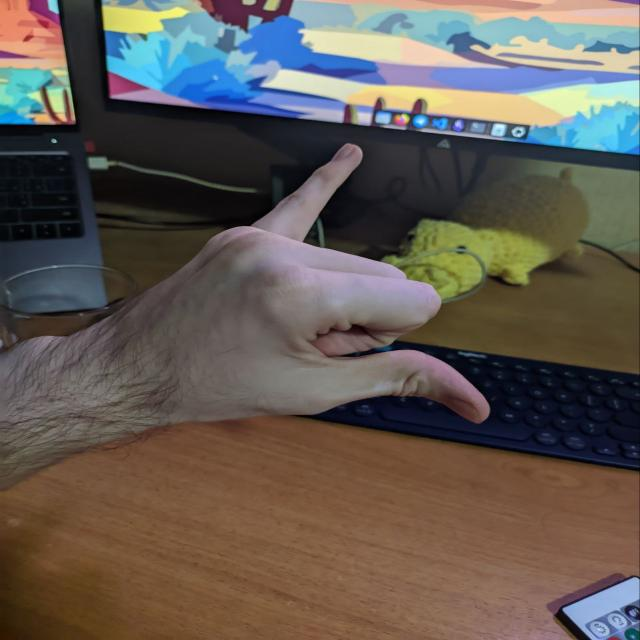u: (158, 124, 490, 444)
